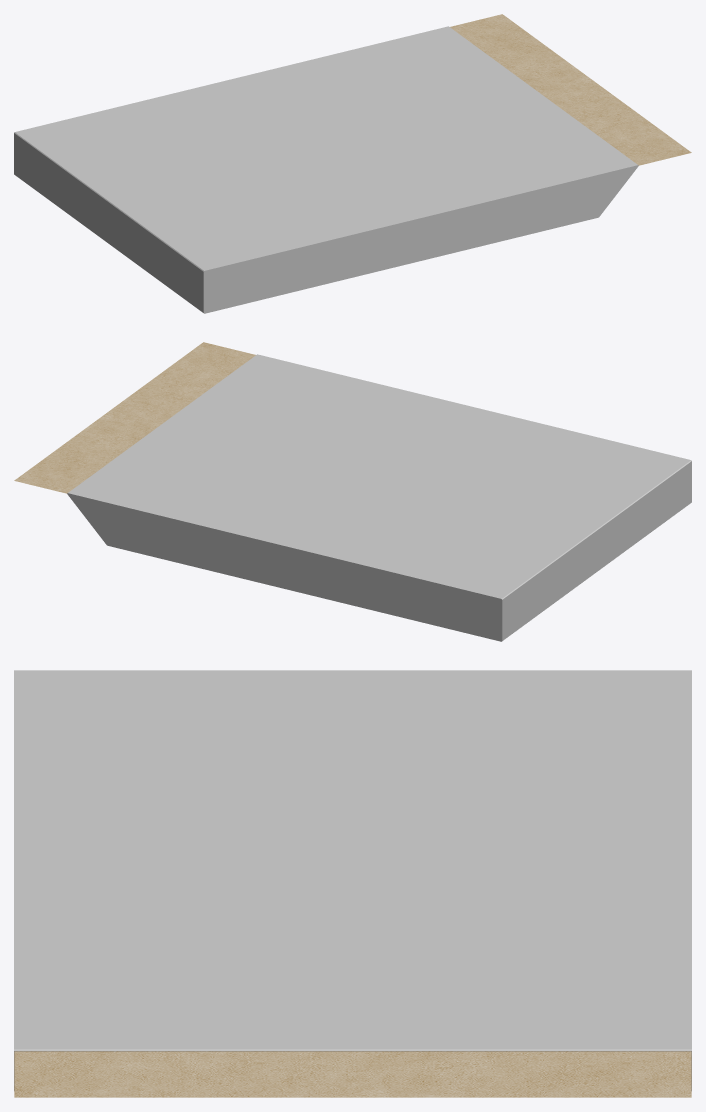
The model's file is SM_DG_HG_Floor01B.fbx.
3 renders of one model, top to bottom at view 1: azimuth 30°, elevation 25°; view 2: azimuth 150°, elevation 25°; view 3: azimuth 270°, elevation 25°, orthographic. The views are drawn at different scales.
Visible parts, largest first — view 1: SM_DG_HG_Floor01B_ConvexHulls, SM_DG_HG_Floor01B; view 2: SM_DG_HG_Floor01B_ConvexHulls, SM_DG_HG_Floor01B; view 3: SM_DG_HG_Floor01B_ConvexHulls, SM_DG_HG_Floor01B.
Boxes of the visible parts, x1,y1,x2,y2 form: SM_DG_HG_Floor01B_ConvexHulls: [14, 26, 638, 313]; SM_DG_HG_Floor01B: [450, 14, 691, 165]; SM_DG_HG_Floor01B_ConvexHulls: [67, 354, 691, 641]; SM_DG_HG_Floor01B: [14, 342, 255, 493]; SM_DG_HG_Floor01B_ConvexHulls: [14, 670, 691, 1090]; SM_DG_HG_Floor01B: [14, 1051, 691, 1097].
Size of the model in its own units: 368 by 247 by 30.9.
Materials: 3 (2 with a texture image).
